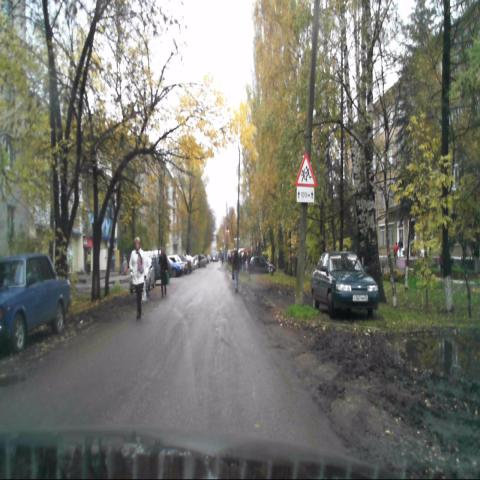1_23: (295, 153, 316, 186)
